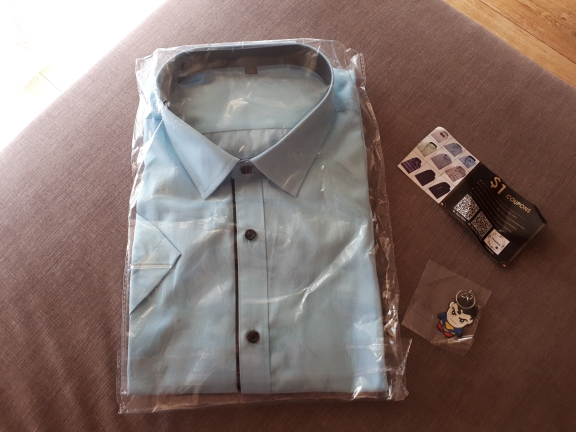shirts: (117, 51, 381, 388)
